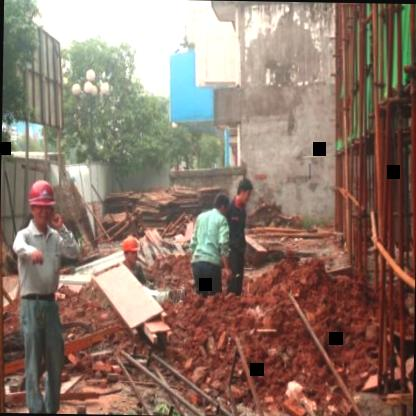head: (233, 176, 254, 207), (209, 188, 231, 216)
helmet: (24, 176, 58, 226), (118, 233, 140, 266)
